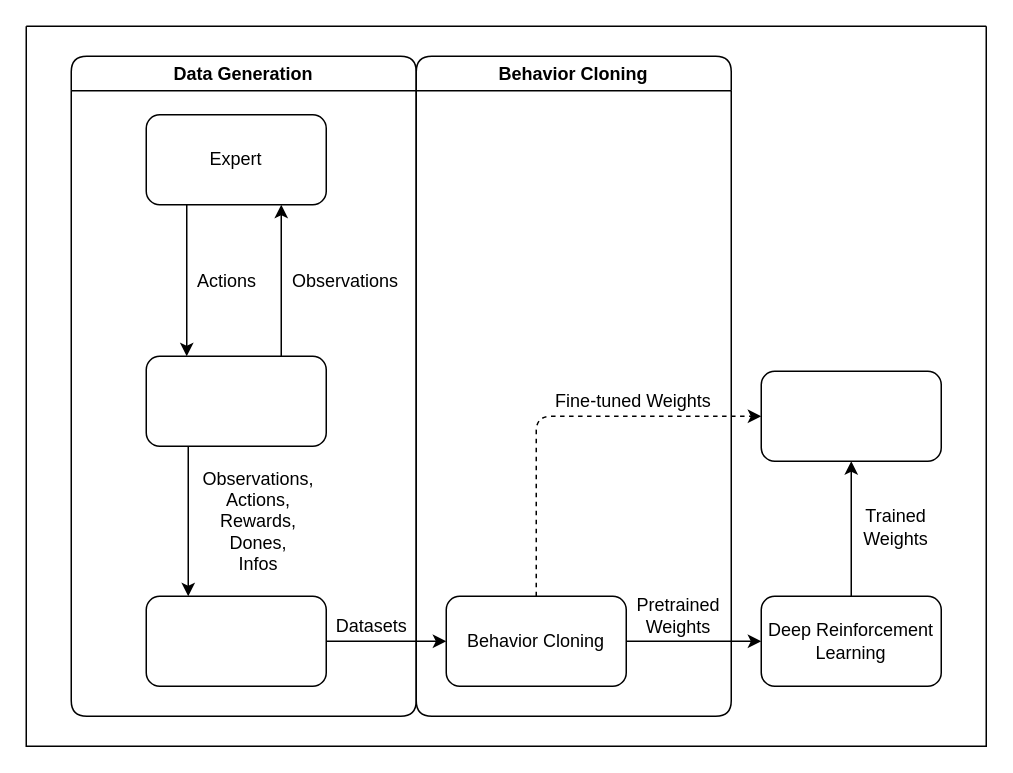
Image size: 1013x773. Some labels were removed from this diagram. The centre of each missing label's shape, as x and y in pixels:
"Deployment" goes at point (850, 415).
"Recording" goes at point (235, 640).
"Simulation" goes at point (235, 400).
